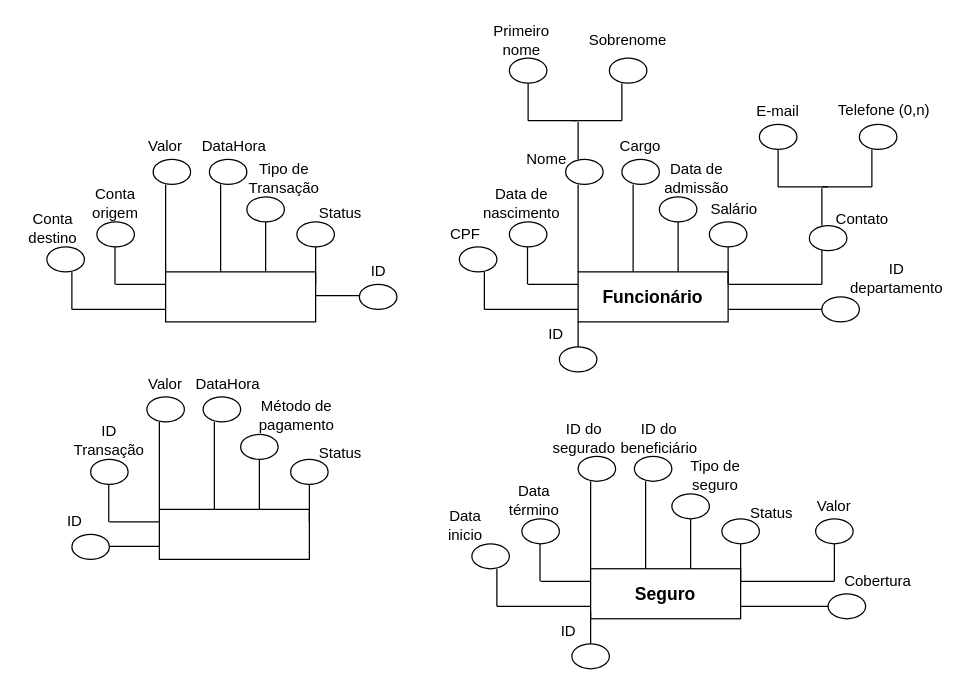
Image size: 968x690. Some labels were removed from this diagram. Each missing label, with the box of its shape:
Pagamento: (158, 508, 309, 559)
Transação: (164, 271, 316, 322)
